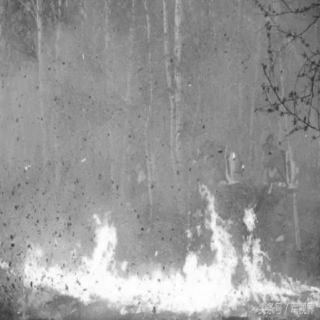other: (202, 134, 244, 212)
